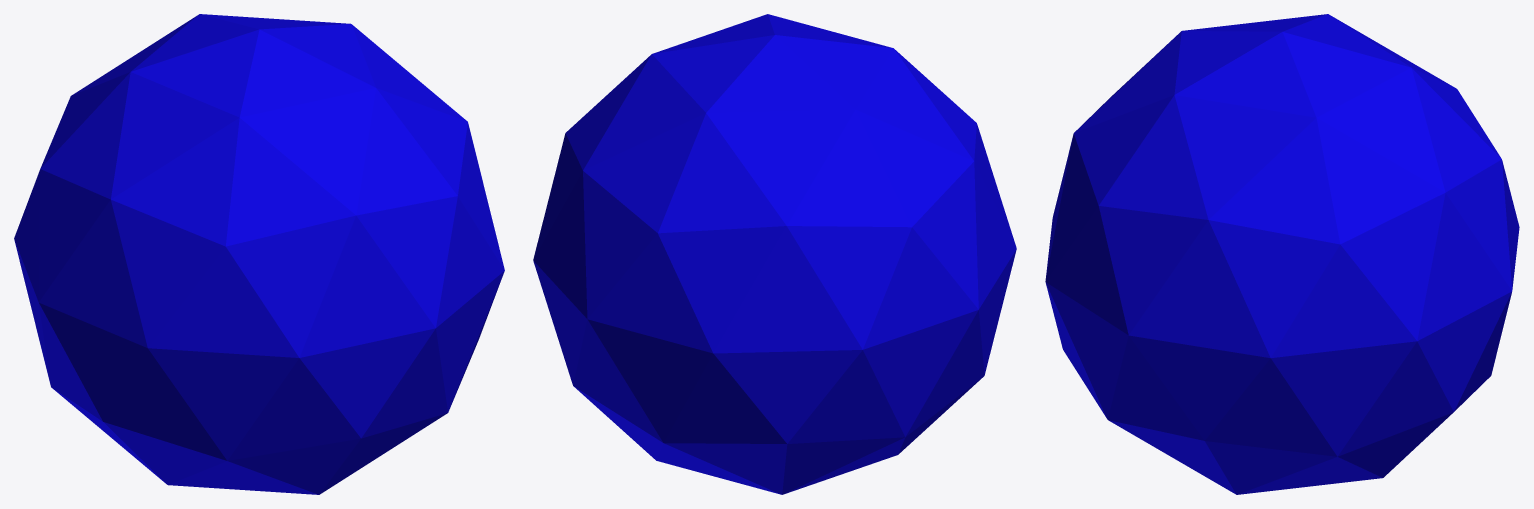
Rendered from normal_arm.glb.
3 renders of one model, left to right at view 1: azimuth 30°, elevation 25°; view 2: azimuth 150°, elevation 25°; view 3: azimuth 270°, elevation 25°, orthographic. The views are drawn at different scales.
Visible parts, largest first — view 1: Icosphere.001; view 2: Icosphere.001; view 3: Icosphere.001.
Boxes of the visible parts, x1,y1,x2,y2 form: Icosphere.001: [14, 14, 504, 494]; Icosphere.001: [533, 14, 1016, 494]; Icosphere.001: [1045, 14, 1519, 494].
Bounding box in the file's own units: 2 × 2 × 1.93.
